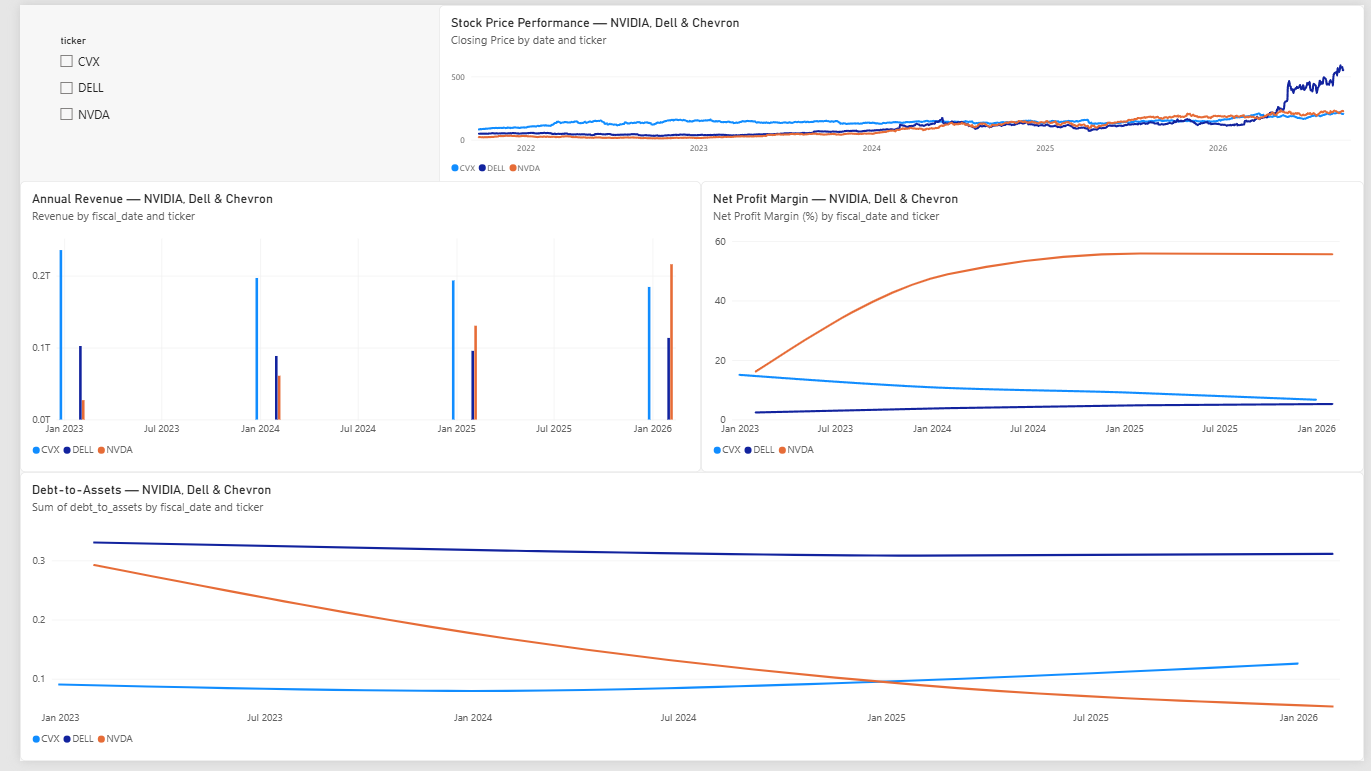

This screenshot's page, from the dashboard's own definition file:
{"tool":"powerbi","page":{"name":"Page 1","canvas":[1920,1080],"ordinal":0},"visuals":[{"type":"slicer","title":"Stock Price Performance — NVIDIA, Dell & Chevron","fields":{"Values":["TickerTable.ticker"]},"box":[49.6,42.3,516.5,144.4],"z":0},{"type":"lineChart","title":"Stock Price Performance — NVIDIA, Dell & Chevron","fields":{"Category":["master_stock_data.date"],"Series":["master_stock_data.ticker"],"Y":["Sum(master_stock_data.close_price)"]},"box":[598.2,0,1321.8,262.6],"z":1000},{"type":"clusteredColumnChart","title":"Annual Revenue — NVIDIA, Dell & Chevron","fields":{"Category":["master_financials.fiscal_date"],"Series":["master_financials.ticker"],"Y":["Sum(master_financials.revenue)"]},"box":[0,250.9,973.1,415.8],"z":2000},{"type":"lineChart","title":"Net Profit Margin — NVIDIA, Dell & Chevron","fields":{"Category":["master_financials.fiscal_date"],"Series":["master_financials.ticker"],"Y":["Sum(master_financials.net_profit_margin)"]},"box":[973.1,250.9,946.9,415.8],"z":2001},{"type":"lineChart","title":"Debt-to-Assets — NVIDIA, Dell & Chevron","fields":{"Category":["master_financials.fiscal_date"],"Series":["master_financials.ticker"],"Y":["Sum(master_financials.debt_to_assets)"]},"box":[0,666.7,1920,412.9],"z":2002}]}

Visuals, with their boxes in screenshot pixels (x1, y1, x2, y2), scaled from the page's 1920x1080 canvas onto the 1371x771 screenshot:
"Stock Price Performance — NVIDIA, Dell & Chevron" slicer: x1=35, y1=30, x2=404, y2=133
"Stock Price Performance — NVIDIA, Dell & Chevron" lineChart: x1=427, y1=0, x2=1370, y2=187
"Annual Revenue — NVIDIA, Dell & Chevron" clusteredColumnChart: x1=0, y1=179, x2=695, y2=476
"Net Profit Margin — NVIDIA, Dell & Chevron" lineChart: x1=695, y1=179, x2=1370, y2=476
"Debt-to-Assets — NVIDIA, Dell & Chevron" lineChart: x1=0, y1=476, x2=1370, y2=770
